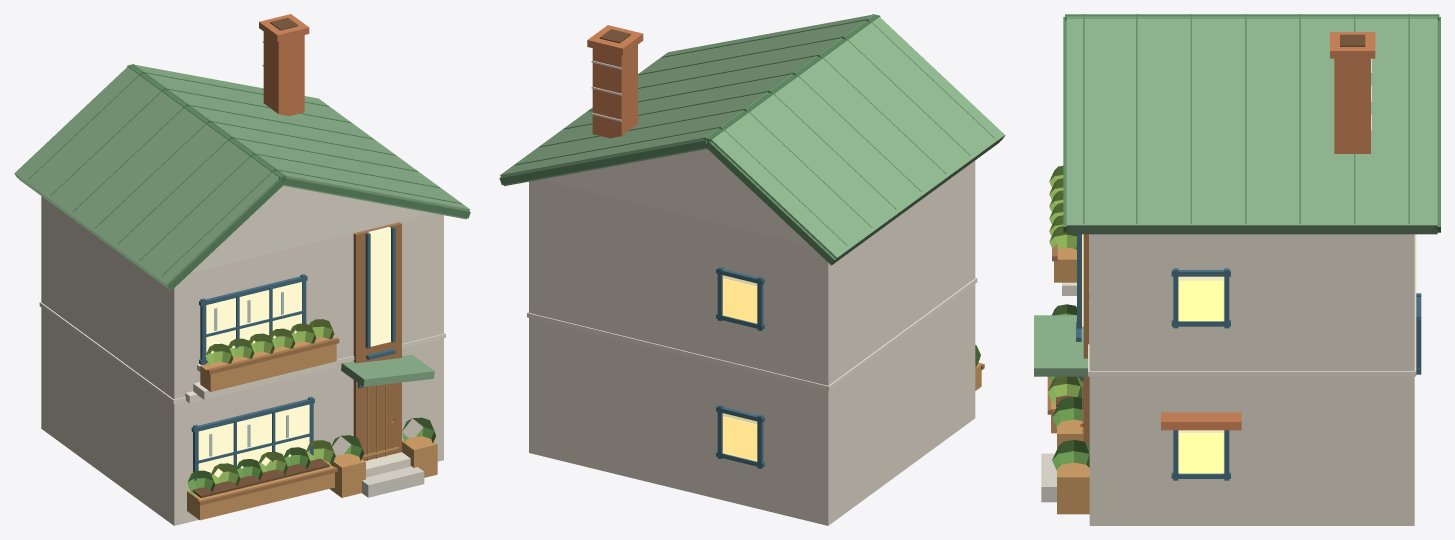
File: house-l02.glb
3 renders of one model, left to right at view 1: azimuth 30°, elevation 25°; view 2: azimuth 150°, elevation 25°; view 3: azimuth 270°, elevation 25°, orthographic. The views are drawn at different scales.
Parts seen in each view (by area): view 1: Residential_L02; view 2: Residential_L02; view 3: Residential_L02.
Part boxes in pixels (box(x1,y1,x2,y2)): Residential_L02: box(14, 14, 470, 525); Residential_L02: box(499, 14, 1005, 525); Residential_L02: box(1034, 14, 1440, 525).
Bounding box in the file's own units: 6.15 × 7.09 × 5.76.
